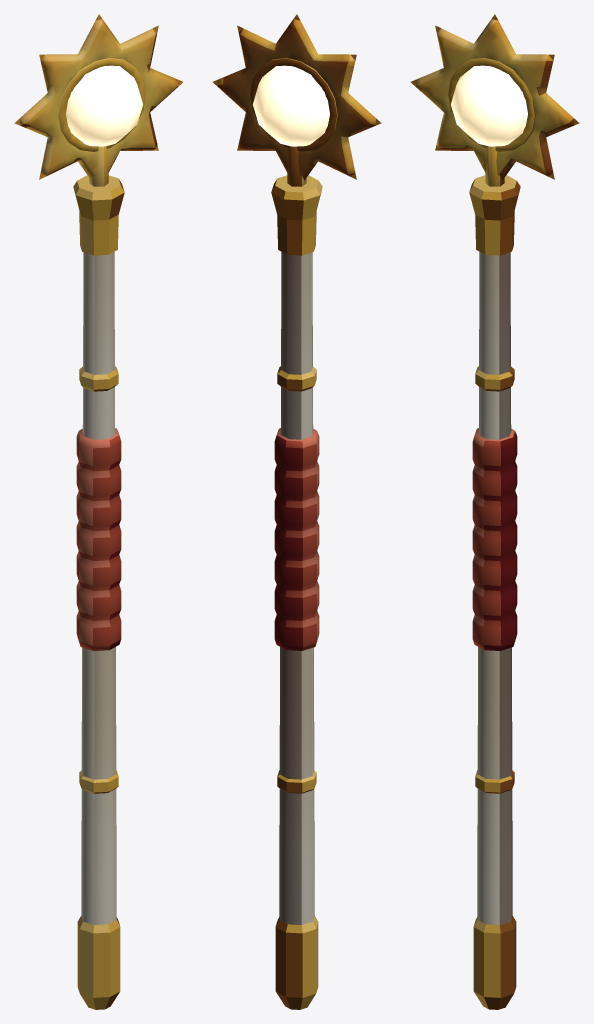
Rendered from sc_dawn_scepter.glb.
3 views of the same model, side by side, from view 1: azimuth 30°, elevation 25°; view 2: azimuth 150°, elevation 25°; view 3: azimuth 330°, elevation 25° (orthographic).
Parts seen in each view (by area): view 1: Weapon; view 2: Weapon; view 3: Weapon.
Part boxes in pixels (box(x1,y1,x2,y2)): Weapon: box(14, 14, 182, 1009); Weapon: box(213, 14, 381, 1009); Weapon: box(411, 14, 579, 1009).
Bounding box in the file's own units: 0.22 × 1.23 × 0.0951.
